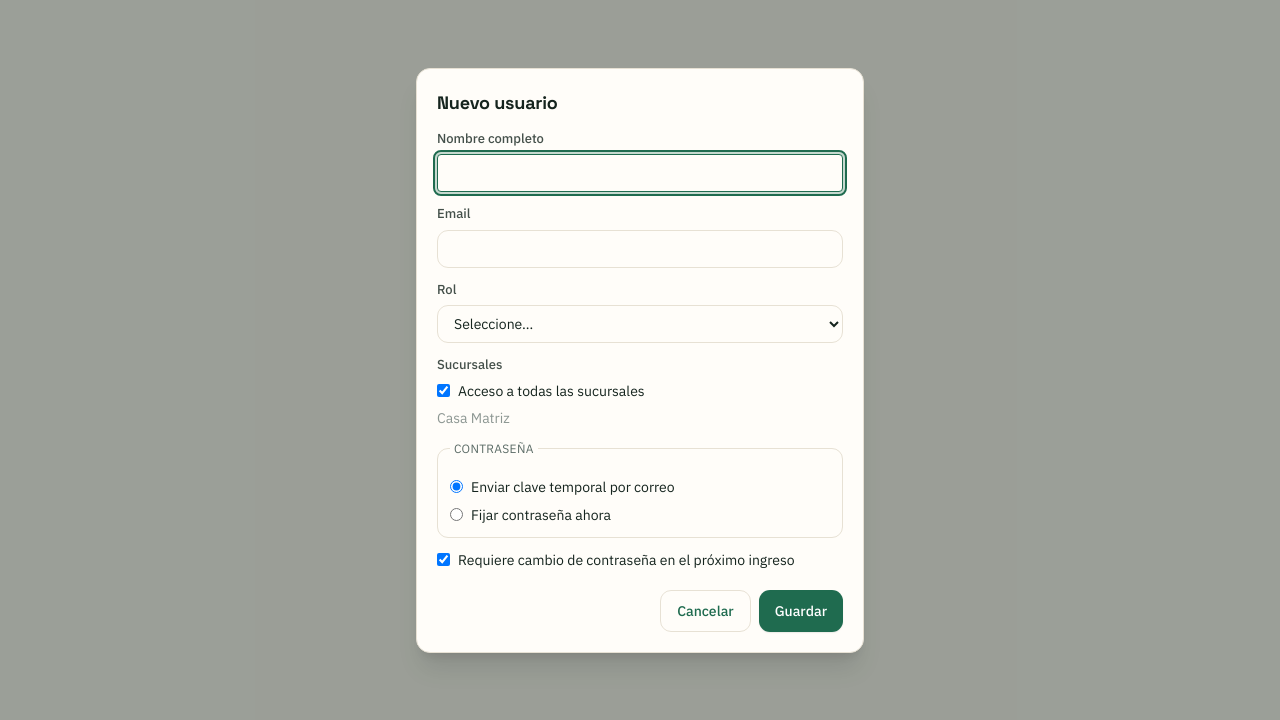
it: UsuarioFormModal (crear) › valida que el nombre es requerido
Expected: the text "Casa Matriz" is shown, [437, 408, 510, 426]
Click the button "Guardar" at coordinates (801, 610), box [759, 590, 843, 632]
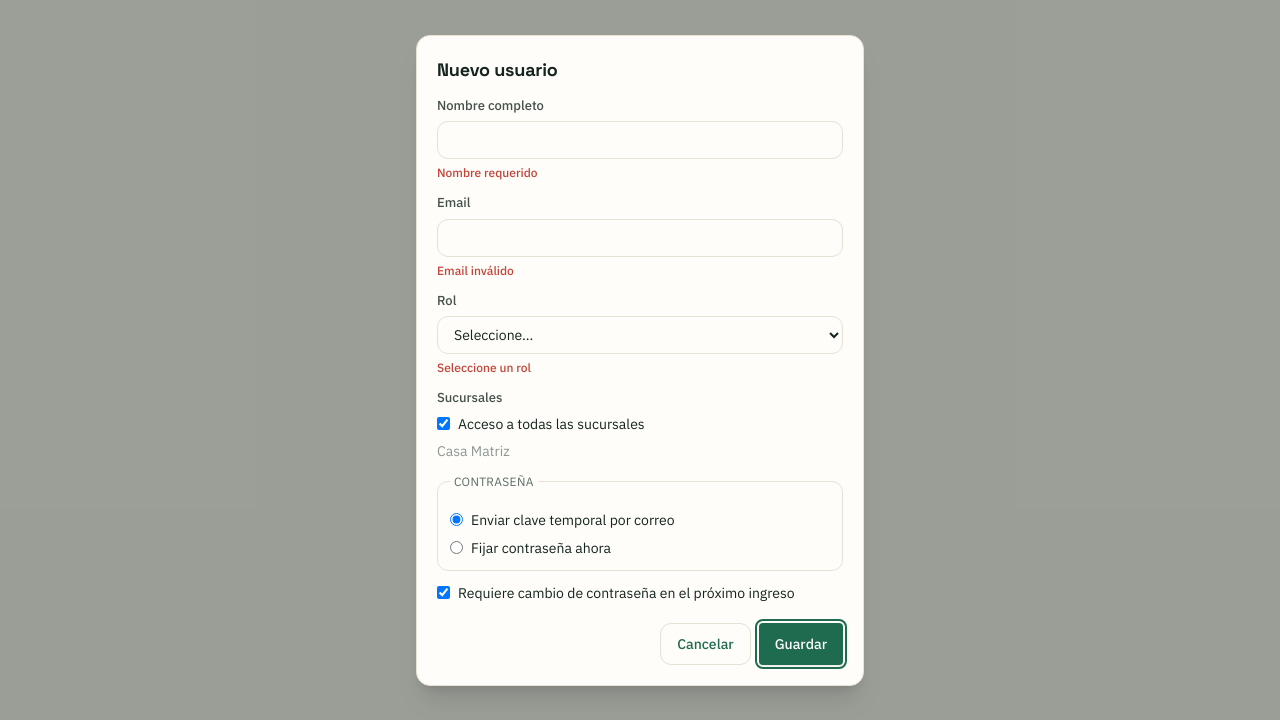
Result: the text "Nombre requerido" is shown at [437, 165, 538, 180]
